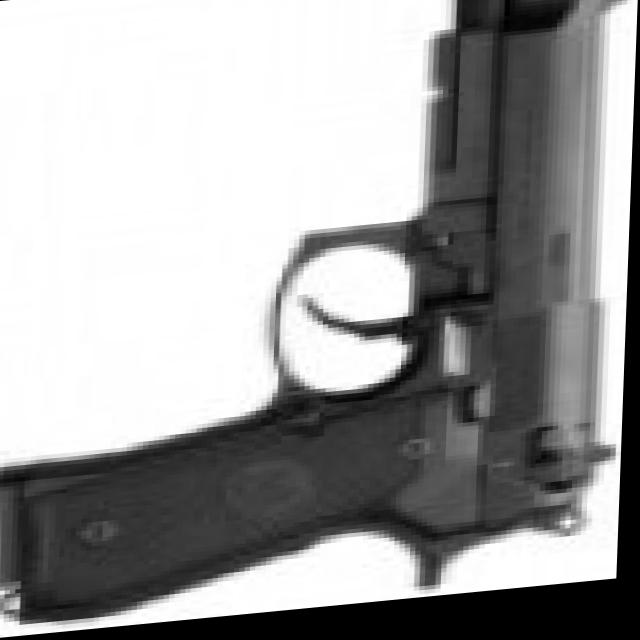handgun: (9, 0, 640, 618)
